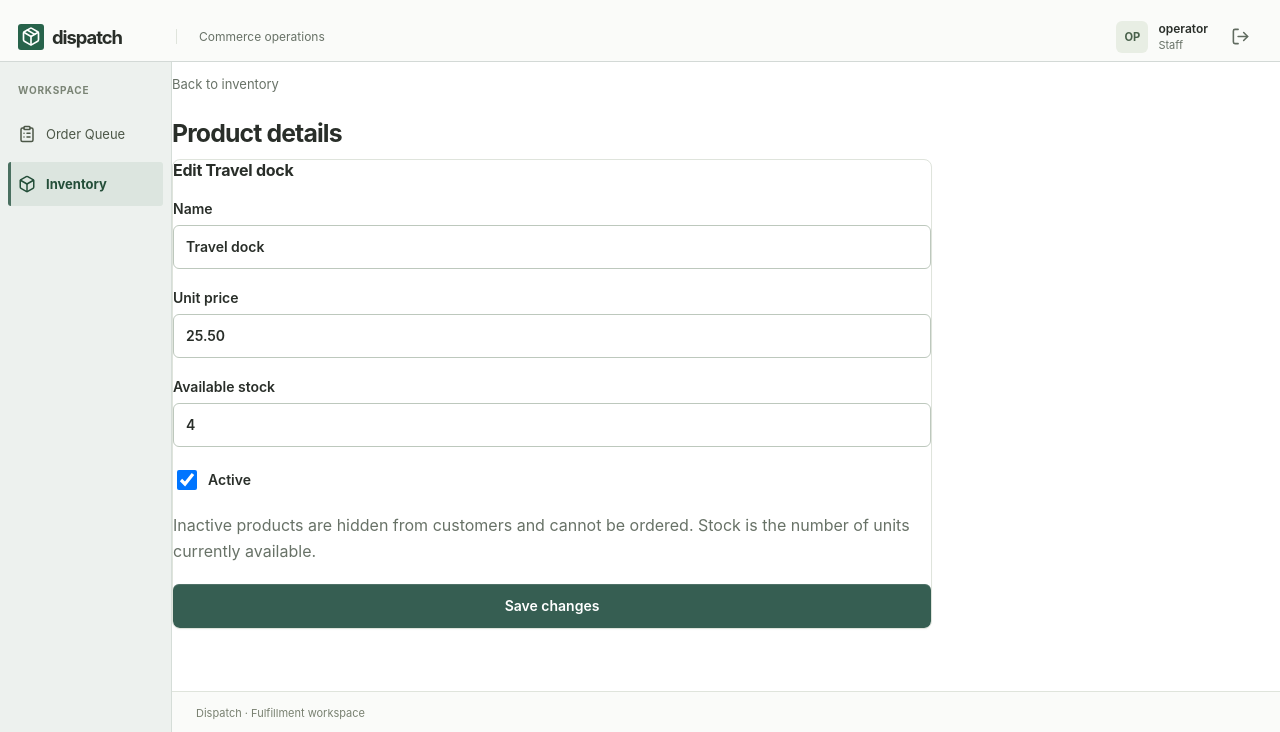
it: preserves product edits when the backend rejects a save
Replace the text in the field labelled "Name" with "Updated dock" at (552, 247), box 173,225 -> 931,269
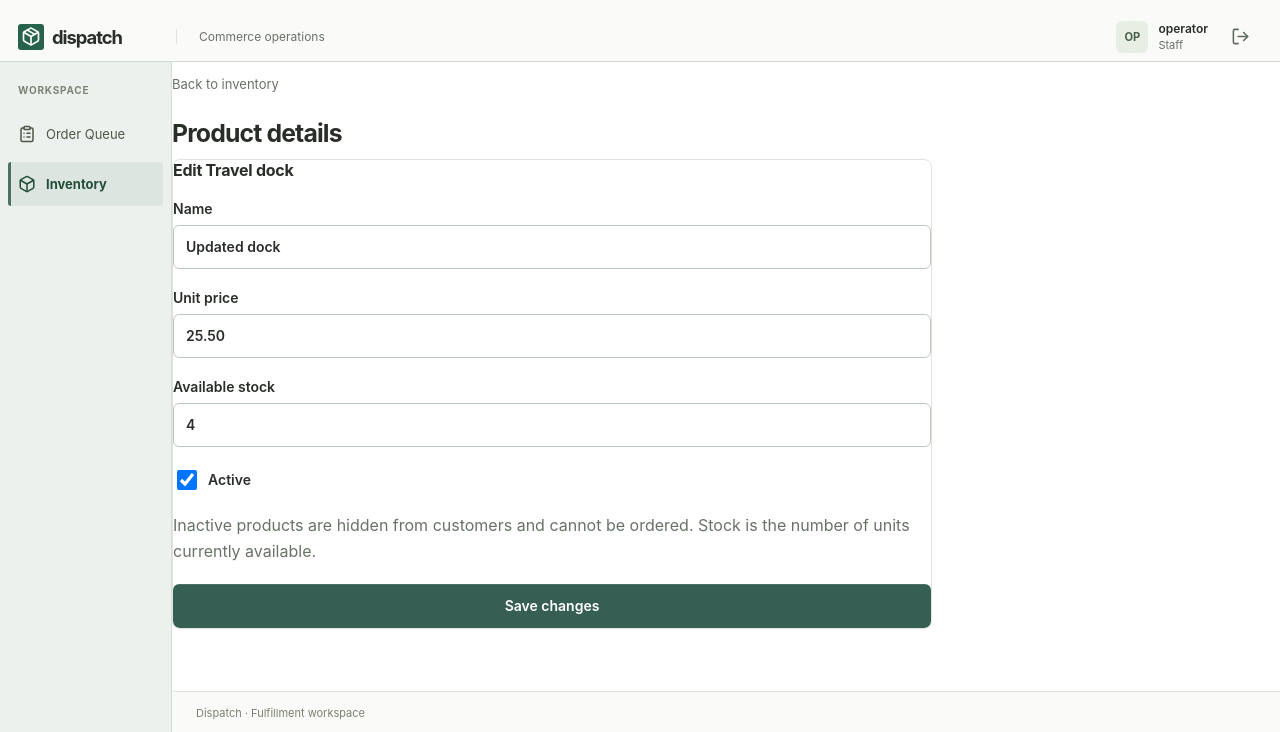
Click the button "Save changes" at (552, 606), box 173,584 -> 931,628
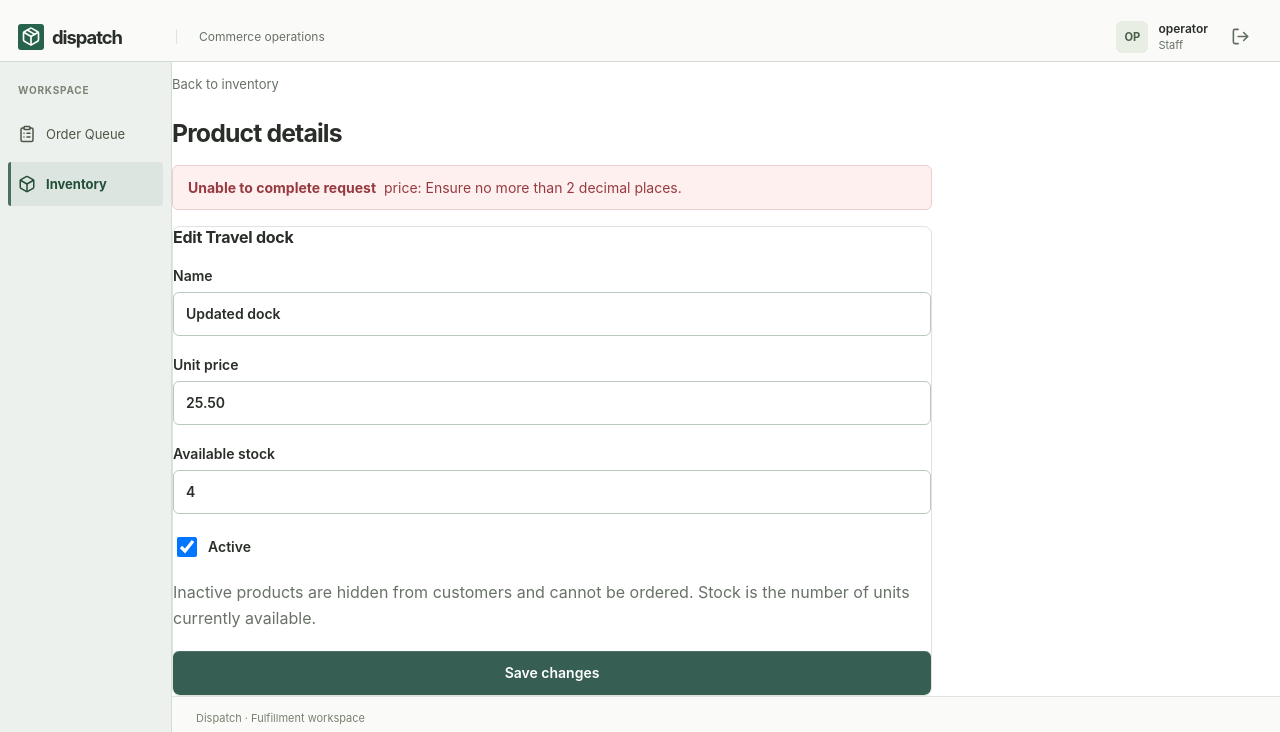
Result: the message shows "decimal places" at 384,179 -> 682,196
